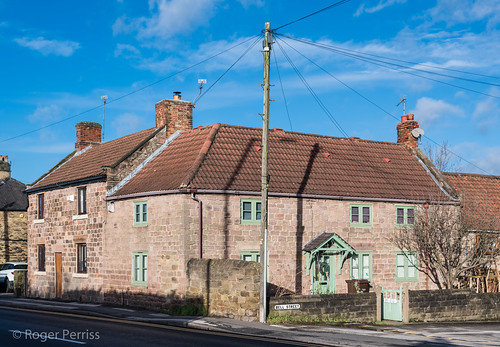medium: (20, 98, 456, 315)
